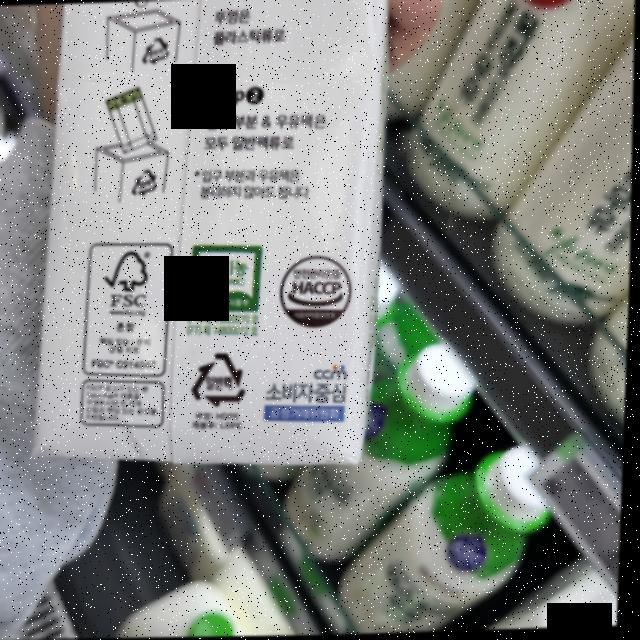NormalPack: (190, 348, 251, 409)
